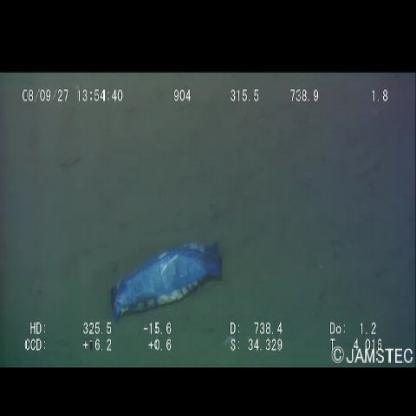Rác: (104, 234, 226, 324)
